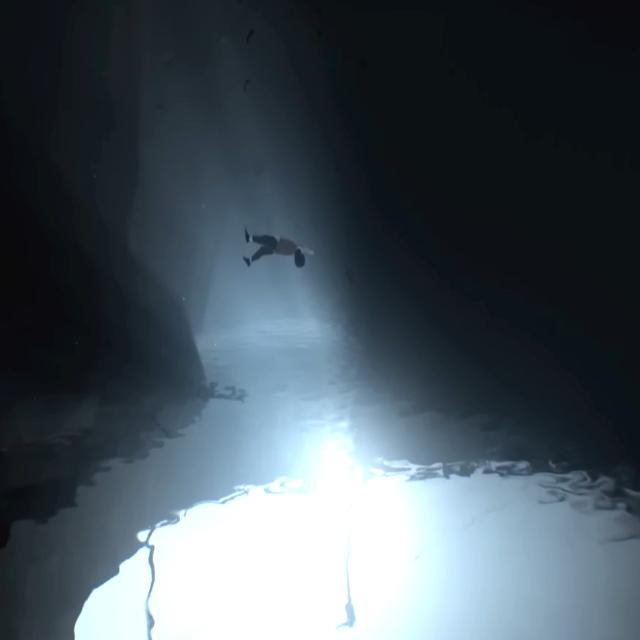boy: (243, 218, 315, 268)
